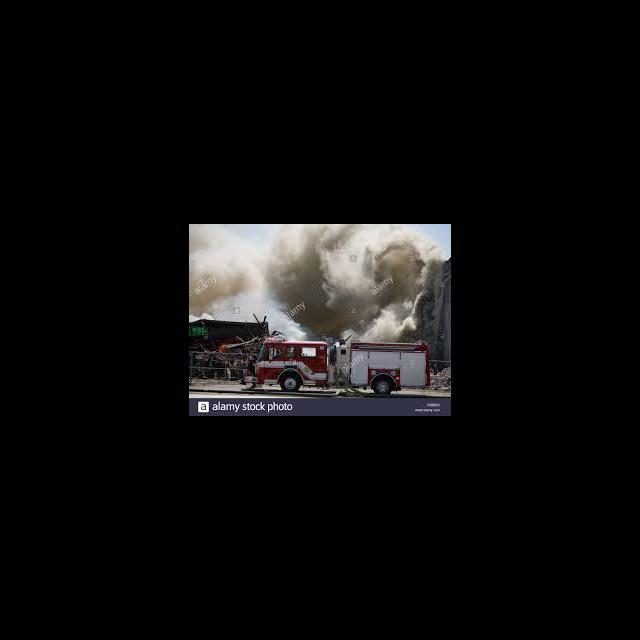Smoke: (264, 226, 348, 276), (227, 266, 306, 300), (190, 224, 254, 264), (351, 225, 441, 252), (364, 306, 414, 340), (310, 278, 368, 303), (398, 273, 438, 306), (361, 256, 443, 271), (190, 298, 228, 320), (286, 322, 306, 340)
